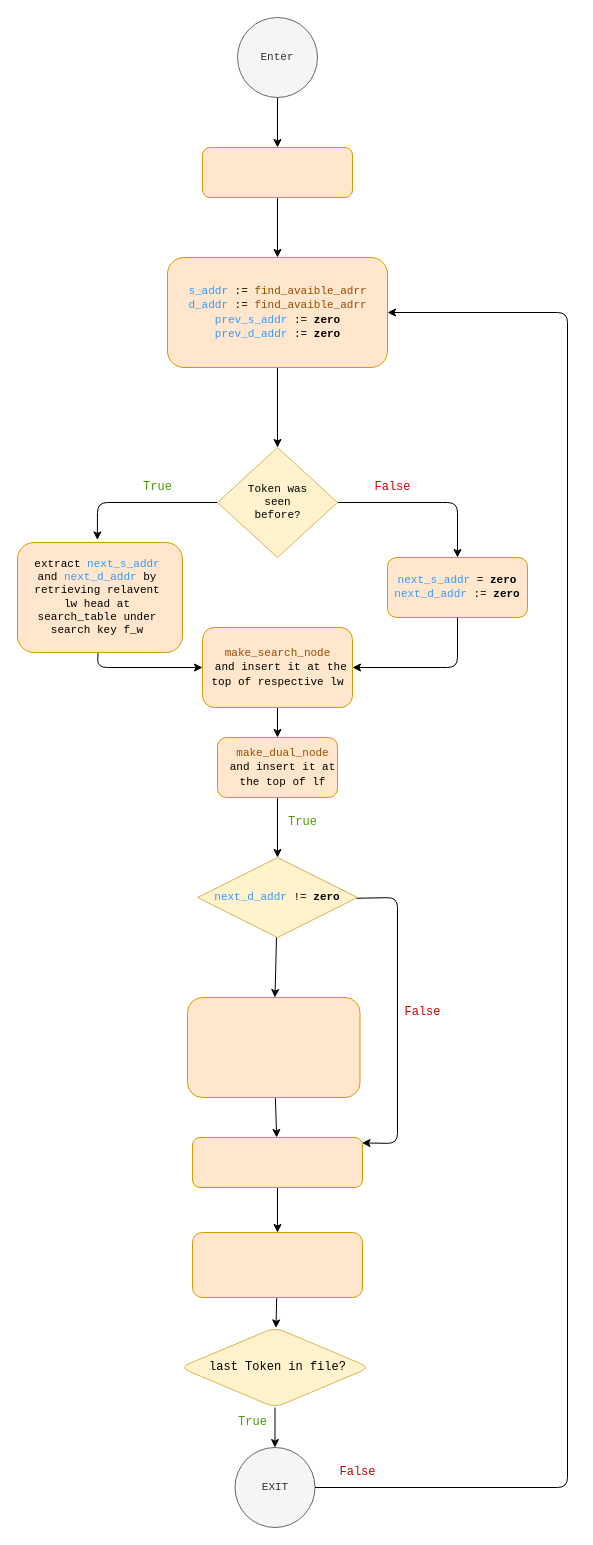
This 593x1545 diagram has some shape labels left out. The centre of each missing label's shape, as x and y in pixels:
create a new lf next_lf_addr := zero: [277,172]
next_lf_addr := d_addr: [277,1265]
update search table: [277,1162]
update_dual_node's prev_addrs with values related to the newly inserted lw head: [273,1047]
